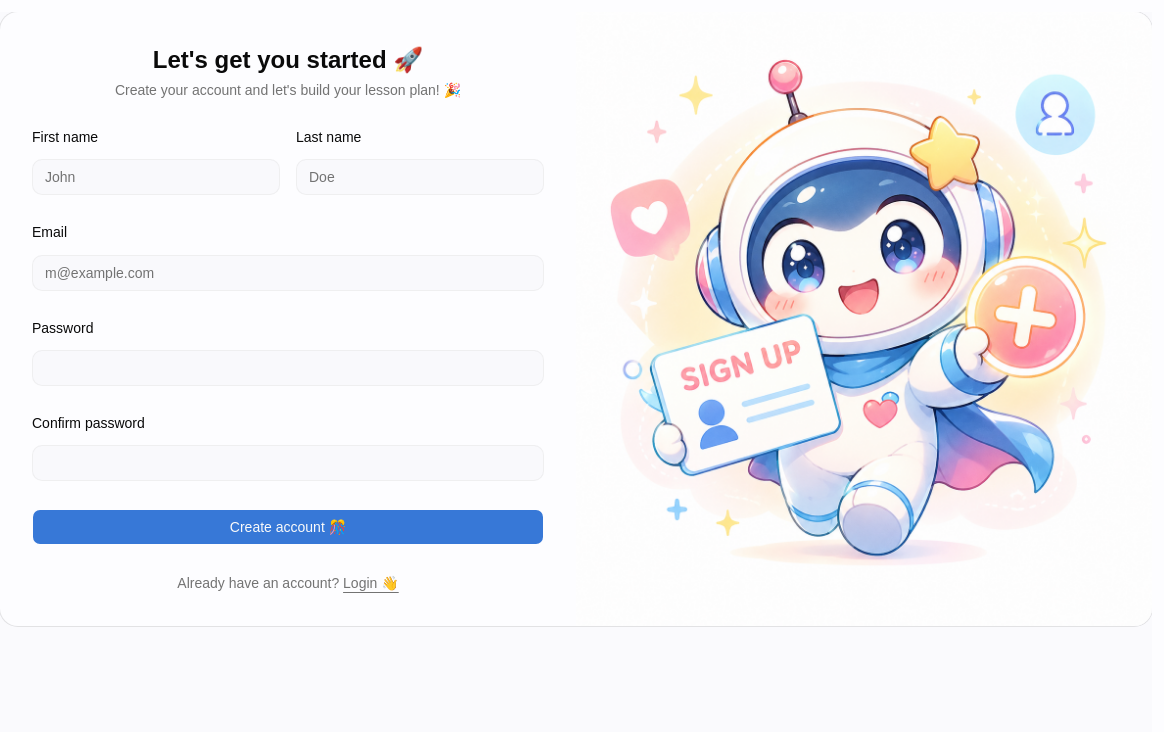
Scenario: SignupForm › shows an error when first name is missing
Click the button "Create account 🎊" at (288, 527), box left=32, top=509, right=544, bottom=545
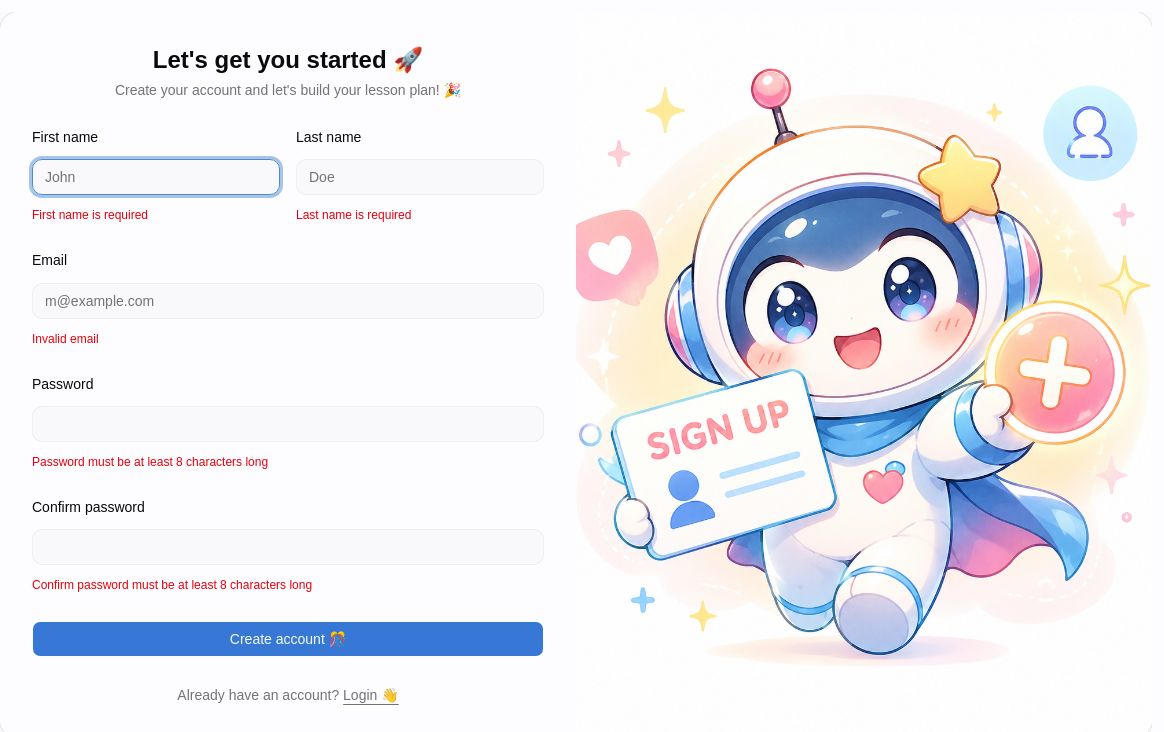
Now the text "First name is required" is shown, box left=32, top=208, right=148, bottom=222
